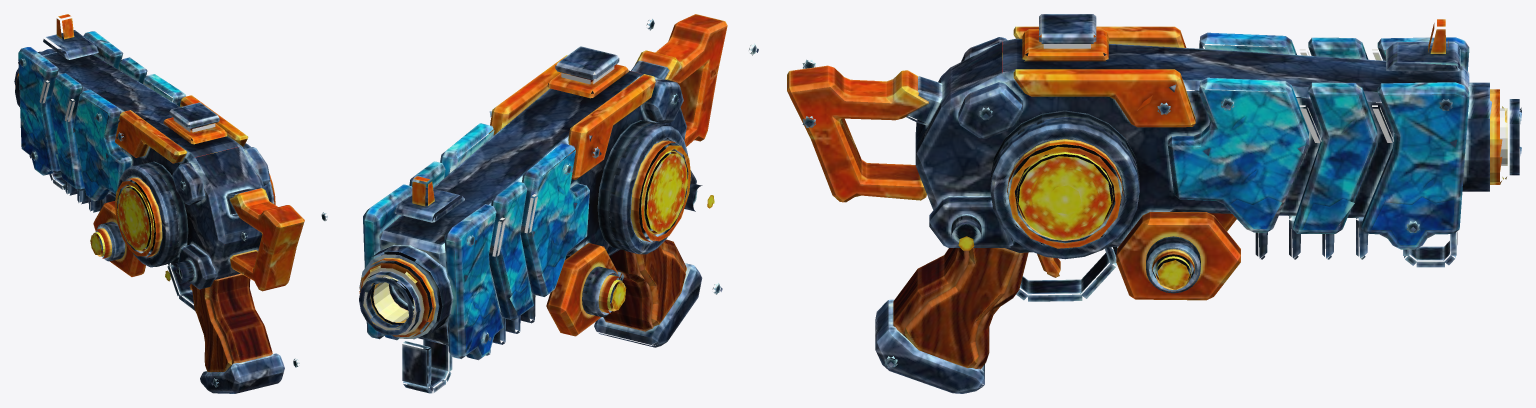
3 renders of one model, left to right at view 1: azimuth 30°, elevation 25°; view 2: azimuth 150°, elevation 25°; view 3: azimuth 270°, elevation 25°, orthographic. The views are drawn at different scales.
Visible parts, largest first — view 1: rl; view 2: rl; view 3: rl.
Part boxes in pixels (x1,y1,x2,y2): rl: (14,14,327,393); rl: (359,14,758,393); rl: (787,14,1521,393).
Bounding box in the file's own units: 0.087 × 0.1603 × 0.3.
Materials: 1 (1 with a texture image).
